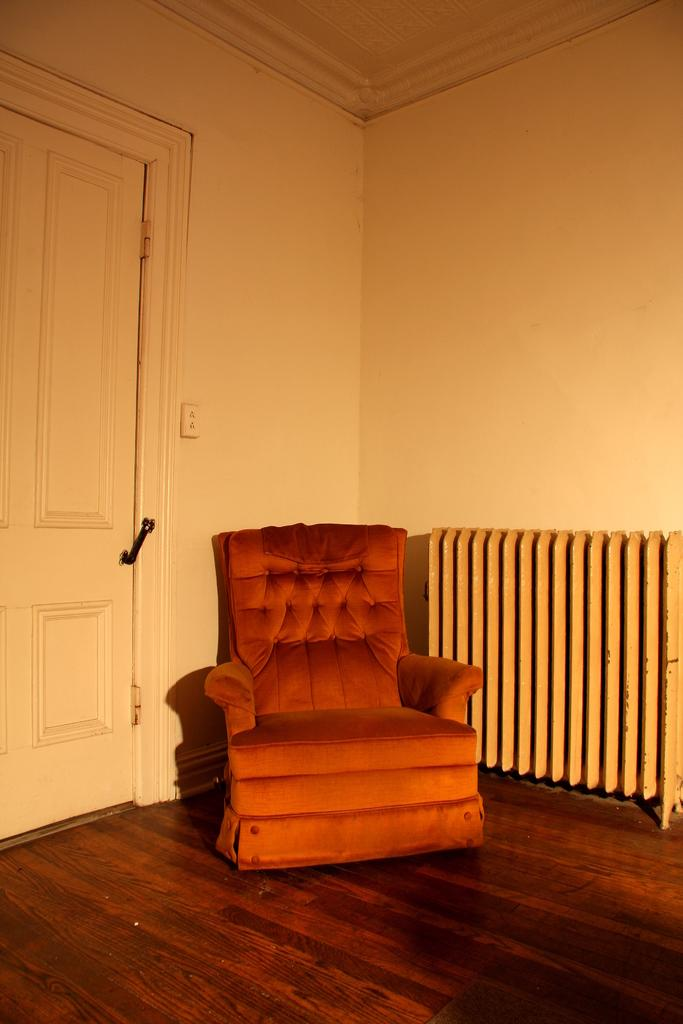Chair: (167, 516, 517, 880)
